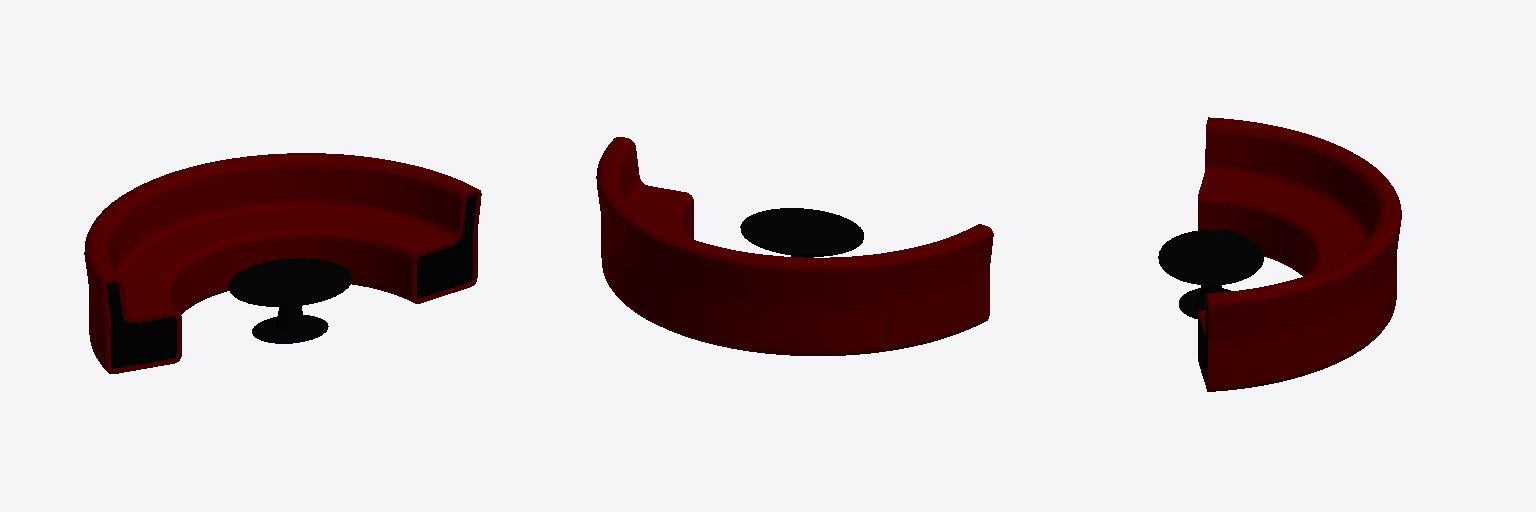
File: mesaSofa.obj
3 renders of one model, left to right at view 1: azimuth 30°, elevation 25°; view 2: azimuth 150°, elevation 25°; view 3: azimuth 270°, elevation 25°, orthographic.
Parts seen in each view (by area): view 1: Cube, Cylinder; view 2: Cube, Cylinder; view 3: Cube, Cylinder.
Boxes of the visible parts, box(x1,y1,x2,y2) form: Cube: box(84, 153, 481, 373); Cylinder: box(228, 258, 351, 343); Cube: box(596, 137, 993, 355); Cylinder: box(740, 208, 863, 257); Cube: box(1198, 117, 1401, 391); Cylinder: box(1158, 230, 1263, 318).
Bounding box in the file's own units: 13.32 × 3.22 × 7.38.